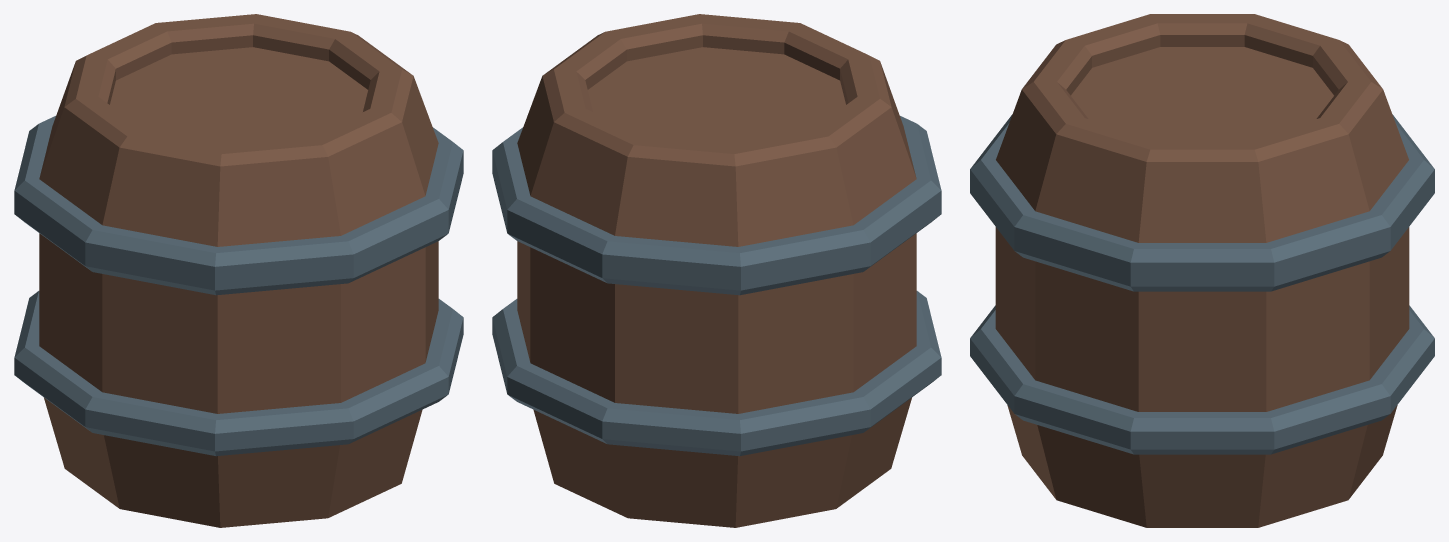
Rendered from SM_Barrel.001.fbx.
3 views of the same model, side by side, from view 1: azimuth 30°, elevation 25°; view 2: azimuth 150°, elevation 25°; view 3: azimuth 270°, elevation 25° (orthographic).
Parts seen in each view (by area): view 1: SM_Barrel.001; view 2: SM_Barrel.001; view 3: SM_Barrel.001.
Part boxes in pixels (bbox=[...]): SM_Barrel.001: bbox=[14, 14, 463, 527]; SM_Barrel.001: bbox=[492, 14, 941, 527]; SM_Barrel.001: bbox=[970, 14, 1434, 527].
Size of the model in its own units: 0.2794 by 0.2938 by 0.2605.
